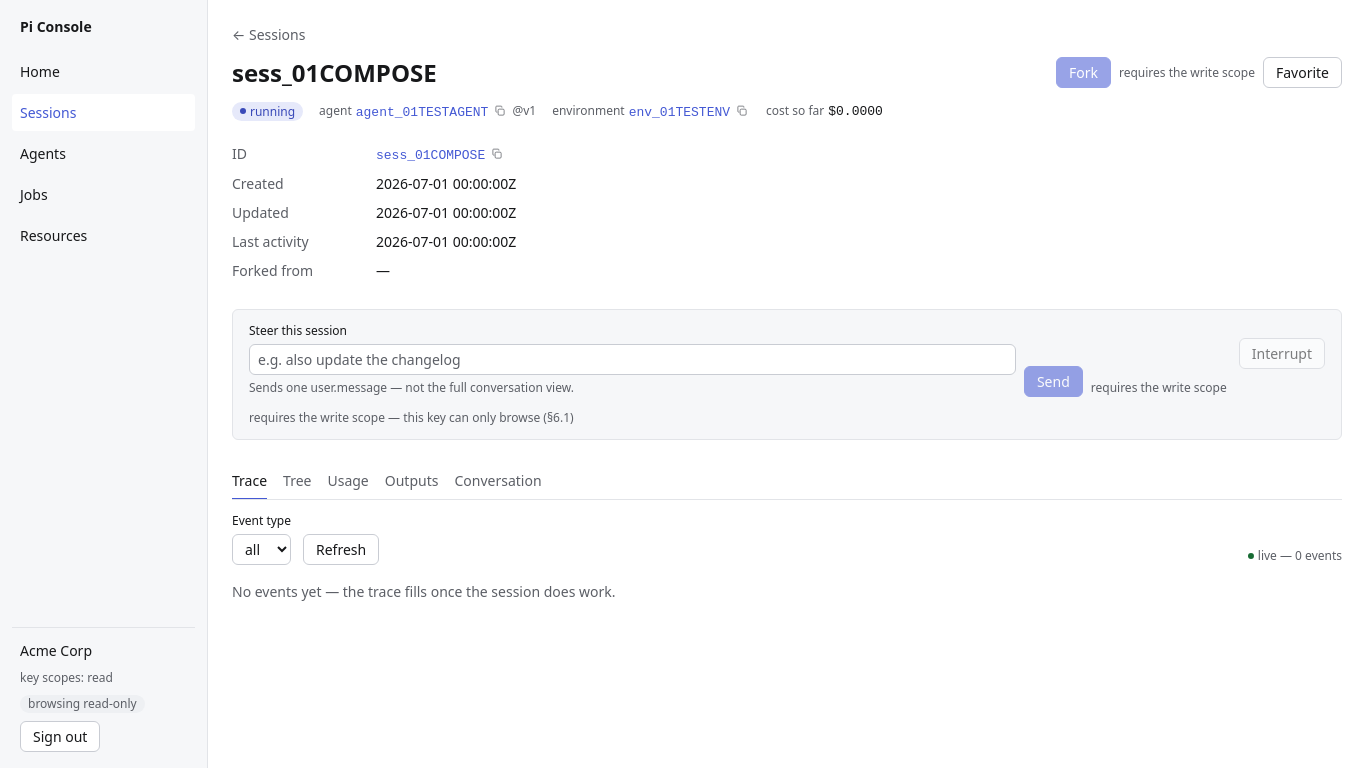
Scenario: scope + terminal honesty (§6.1, §5a guard rails) › read scope: Send and Interrupt are disabled WITH the reason, never hidden
Check: the element named "Session detail" is shown, box [232,464,1342,500]
Click the tab "Conversation".
click(498, 482)  # box [454,464,542,500]
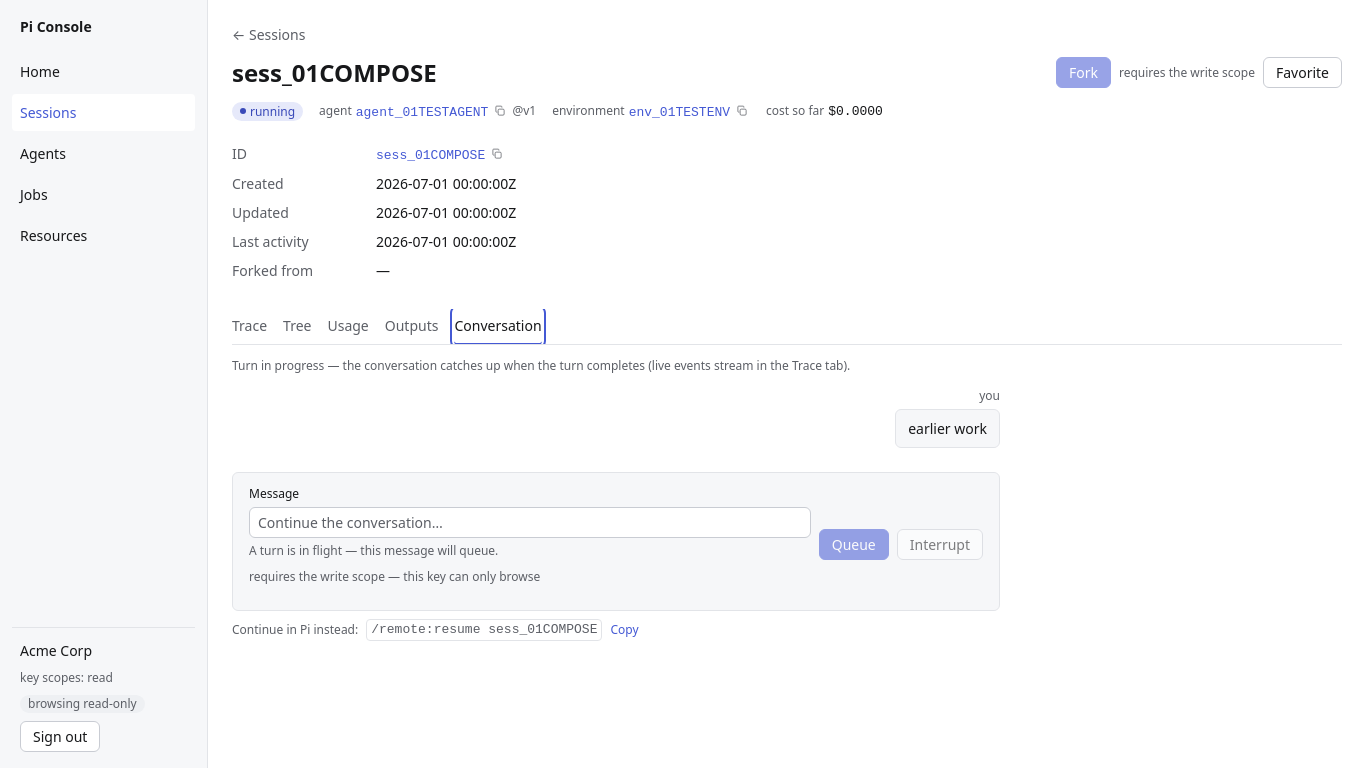
Check: the button "Interrupt" is disabled, box [897,529,983,560]
Check: the button "Queue" is disabled, box [819,529,889,560]
